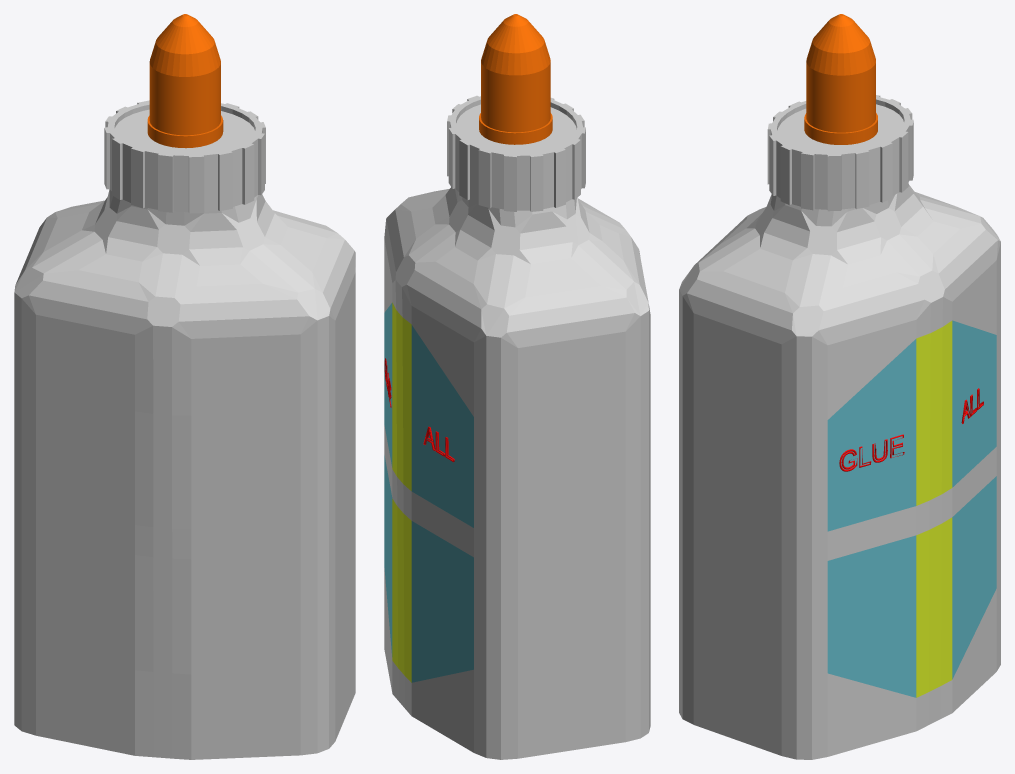
File: 4ecf79ed-a084-45a0-91f8-2e2c7124ee40.glb
3 renders of one model, left to right at view 1: azimuth 30°, elevation 25°; view 2: azimuth 150°, elevation 25°; view 3: azimuth 270°, elevation 25°, orthographic. The views are drawn at different scales.
Parts seen in each view (by area): view 1: Box002, Cylinder003, Cylinder004; view 2: Box002, Cylinder003, Cylinder004; view 3: Box002, Cylinder003, Cylinder004, Text003.
Boxes of the visible parts, left/top/right/bottom form: Box002: left=14, top=189, right=355, bottom=759; Cylinder003: left=104, top=100, right=265, bottom=213; Cylinder004: left=147, top=14, right=223, bottom=148; Box002: left=384, top=187, right=650, bottom=759; Cylinder003: left=447, top=95, right=585, bottom=211; Cylinder004: left=479, top=14, right=552, bottom=144; Box002: left=679, top=182, right=1000, bottom=759; Cylinder003: left=767, top=95, right=913, bottom=211; Cylinder004: left=804, top=14, right=877, bottom=144; Text003: left=839, top=434, right=904, bottom=471.
Bounding box in the file's own units: 228883 × 505884 × 218791.
